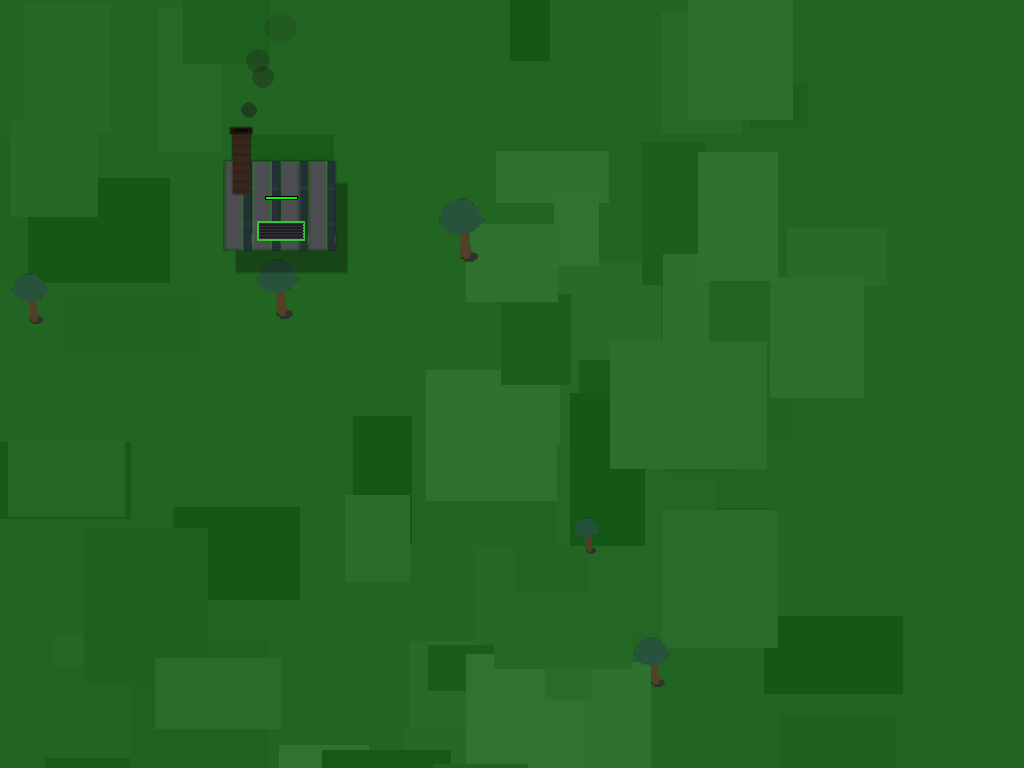FactoryBuilding: (208, 123, 353, 268)
